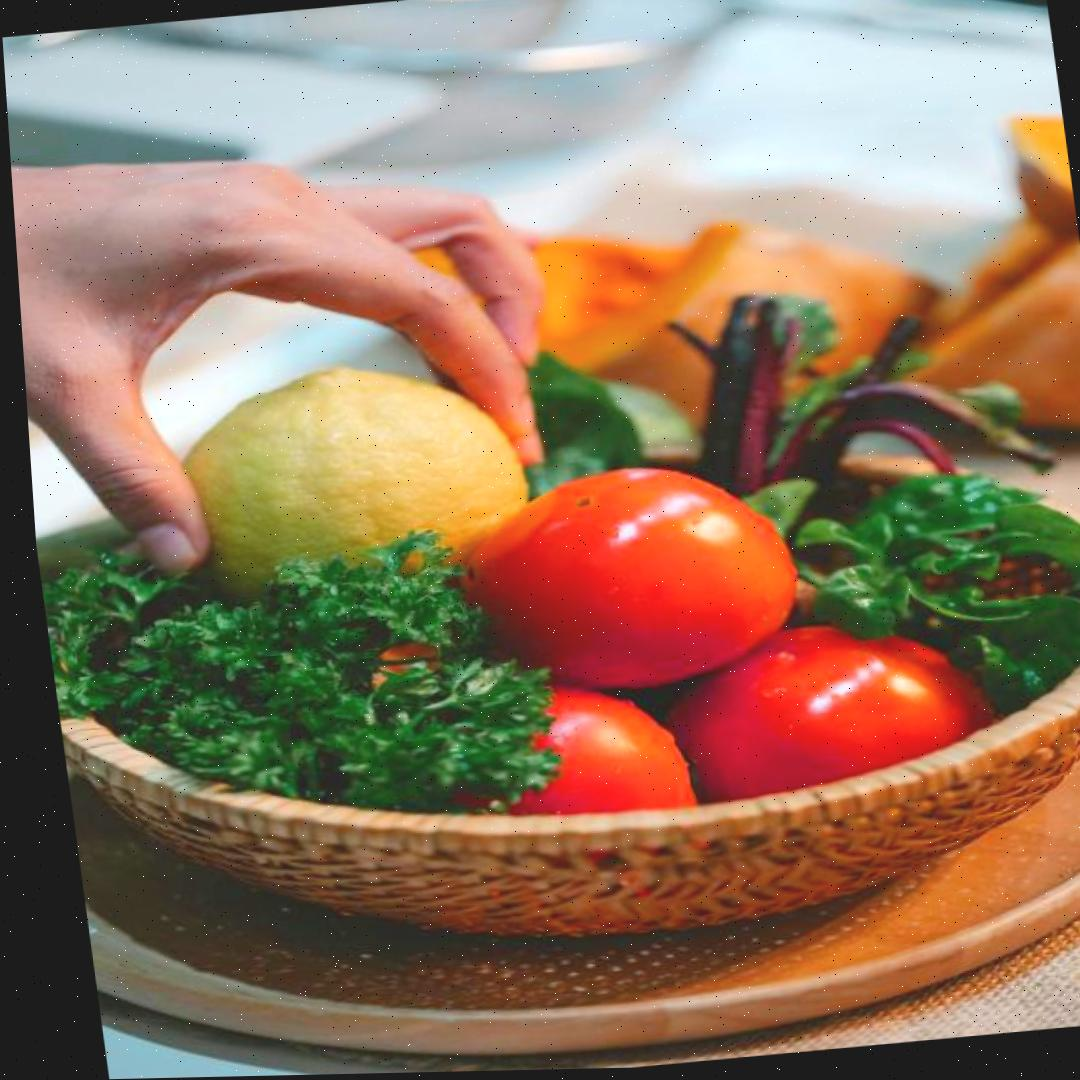matang: (647, 608, 1038, 875), (432, 450, 815, 701)
